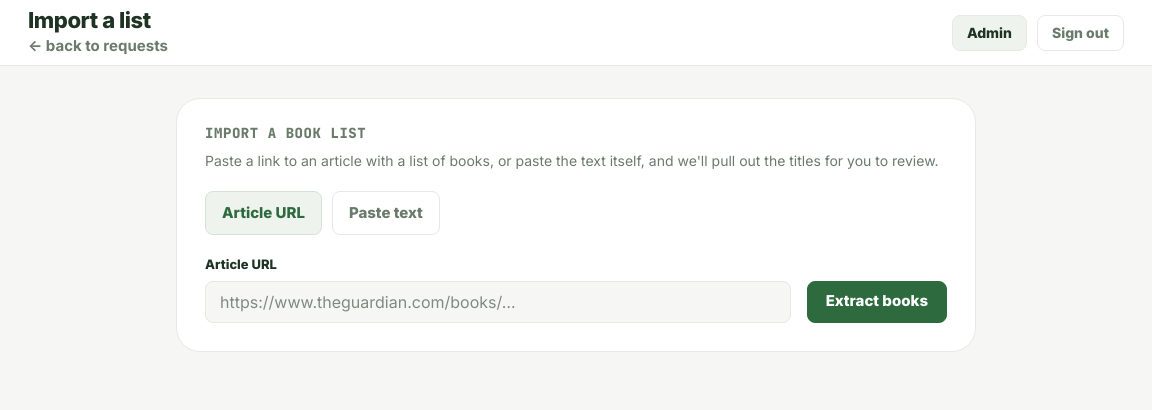
ImportRoute — input stage › requires something to submit
Click the button "Extract books". click: [877, 302]
box: [807, 280, 947, 322]
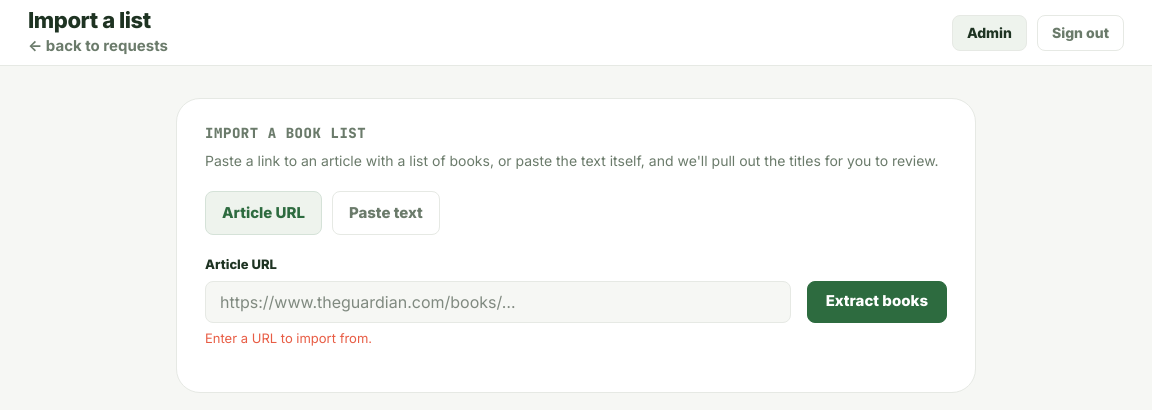
Check: the message shows "Enter a URL", box [205, 330, 372, 346]
